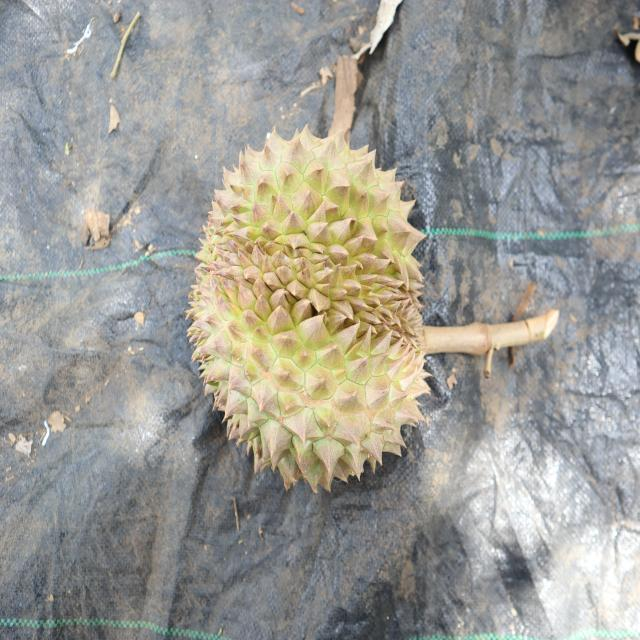mature: (187, 131, 439, 496)
